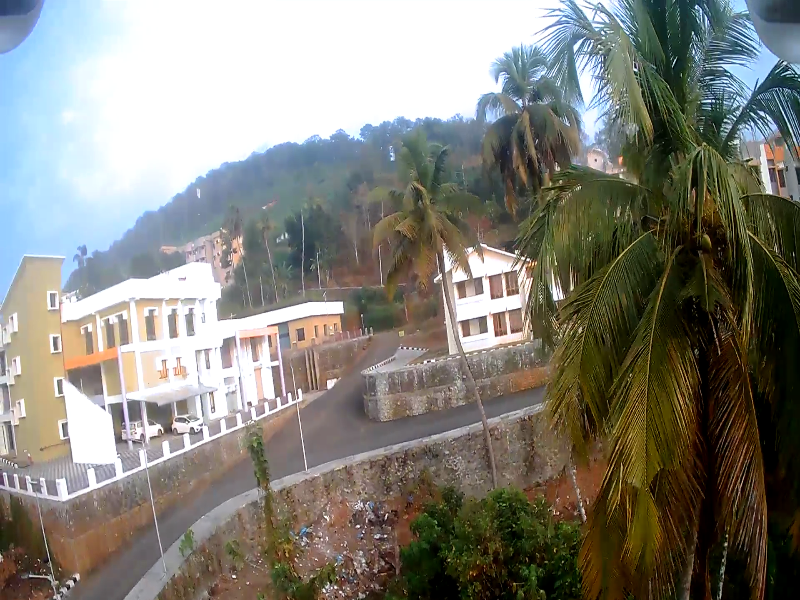coconut: (696, 227, 713, 253)
